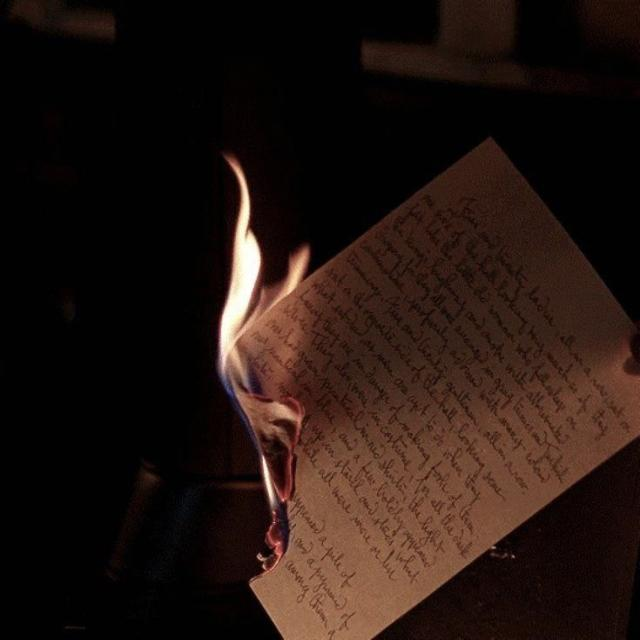fire: (219, 155, 264, 393), (271, 246, 310, 302)
